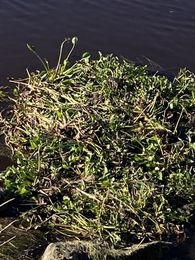water_hyacinth: (1, 36, 194, 260)
